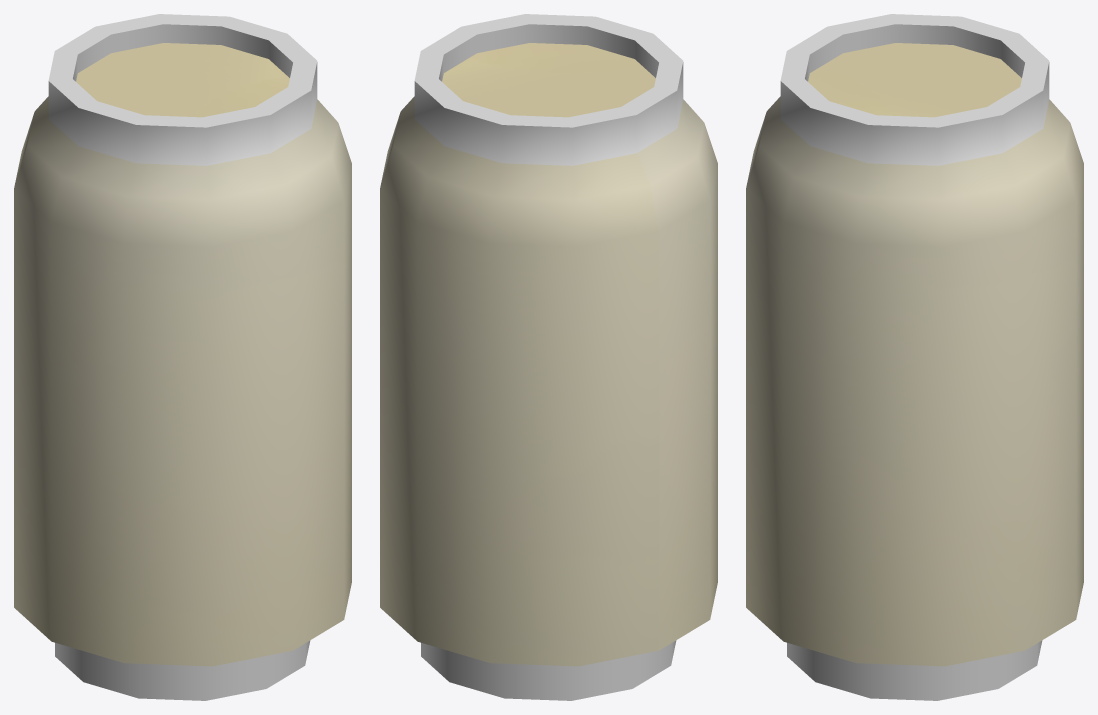
File: SM_drink_soda_06.fbx
3 renders of one model, left to right at view 1: azimuth 30°, elevation 25°; view 2: azimuth 150°, elevation 25°; view 3: azimuth 270°, elevation 25°, orthographic.
Parts seen in each view (by area): view 1: Cylinder064; view 2: Cylinder064; view 3: Cylinder064.
Part boxes in pixels (<box>): Cylinder064: <box>14,14,351,700</box>; Cylinder064: <box>380,14,717,700</box>; Cylinder064: <box>746,14,1083,700</box>.
Size of the model in its own units: 8.67 by 16.3 by 8.67.
